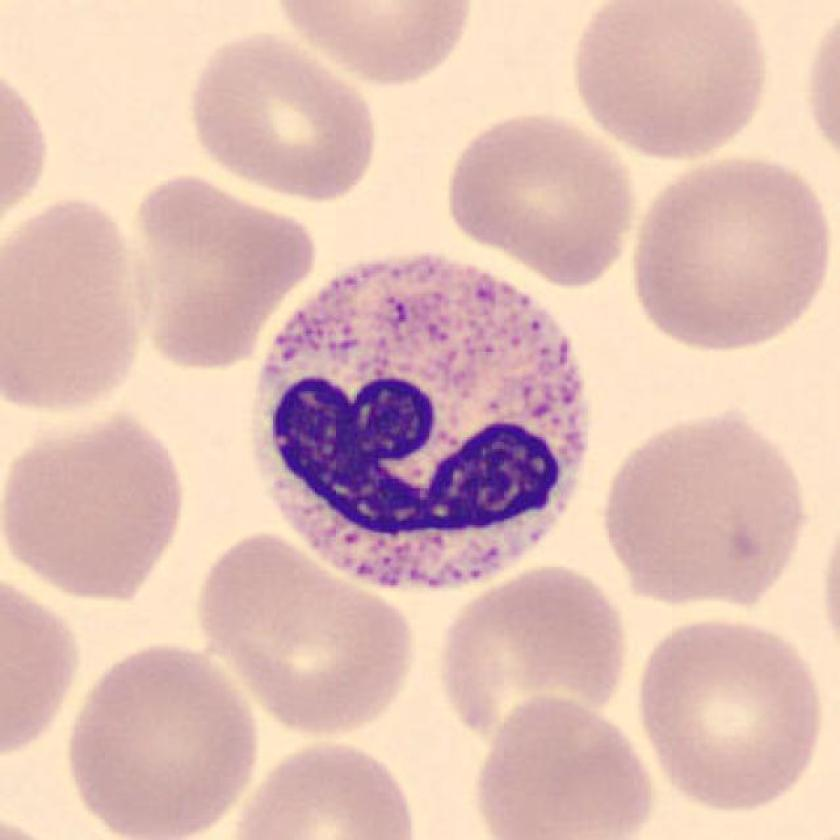neutrophil: (258, 256, 584, 587)
